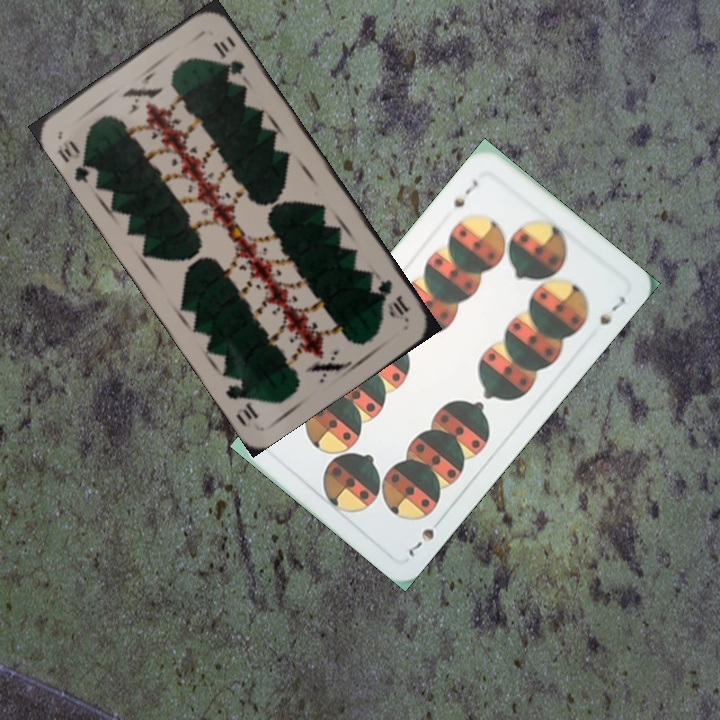G10: (53, 135, 102, 186), (373, 275, 412, 318)
S7: (404, 524, 437, 560), (449, 176, 481, 211)
